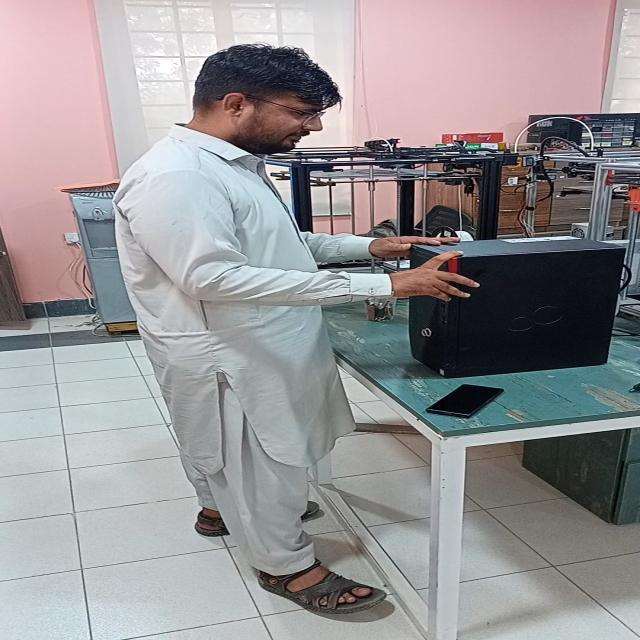dress: (116, 120, 396, 591)
glasses: (278, 98, 334, 126)
